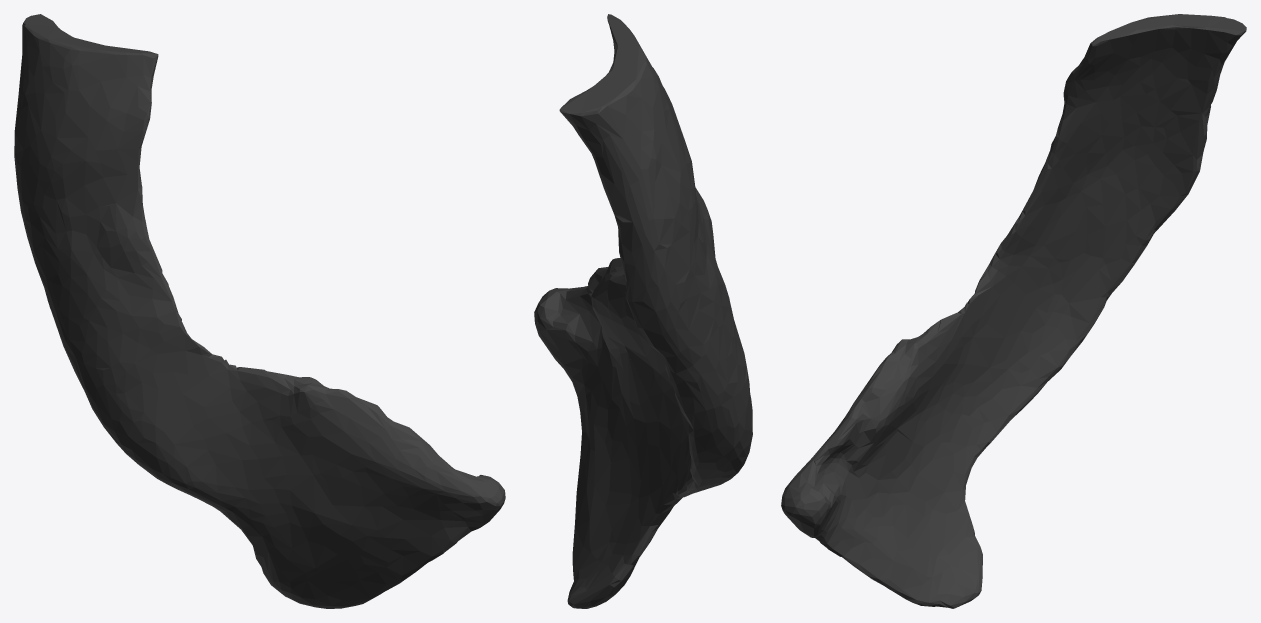
The model's file is Ventricle_1_R_vent_horn.glb.
The picture shows the model from 3 angles, left to right: view 1: azimuth 30°, elevation 25°; view 2: azimuth 150°, elevation 25°; view 3: azimuth 270°, elevation 25°; orthographic projection. The views are drawn at different scales.
Visible parts, largest first — view 1: Ventricle_1_R_vent_horn; view 2: Ventricle_1_R_vent_horn; view 3: Ventricle_1_R_vent_horn.
Boxes of the visible parts, bbox=[...] form: Ventricle_1_R_vent_horn: bbox=[14, 14, 505, 608]; Ventricle_1_R_vent_horn: bbox=[534, 14, 752, 608]; Ventricle_1_R_vent_horn: bbox=[781, 14, 1246, 608].
Size of the model in its own units: 0.0169 by 0.0291 by 0.0237.
1 material, 1 textured.
